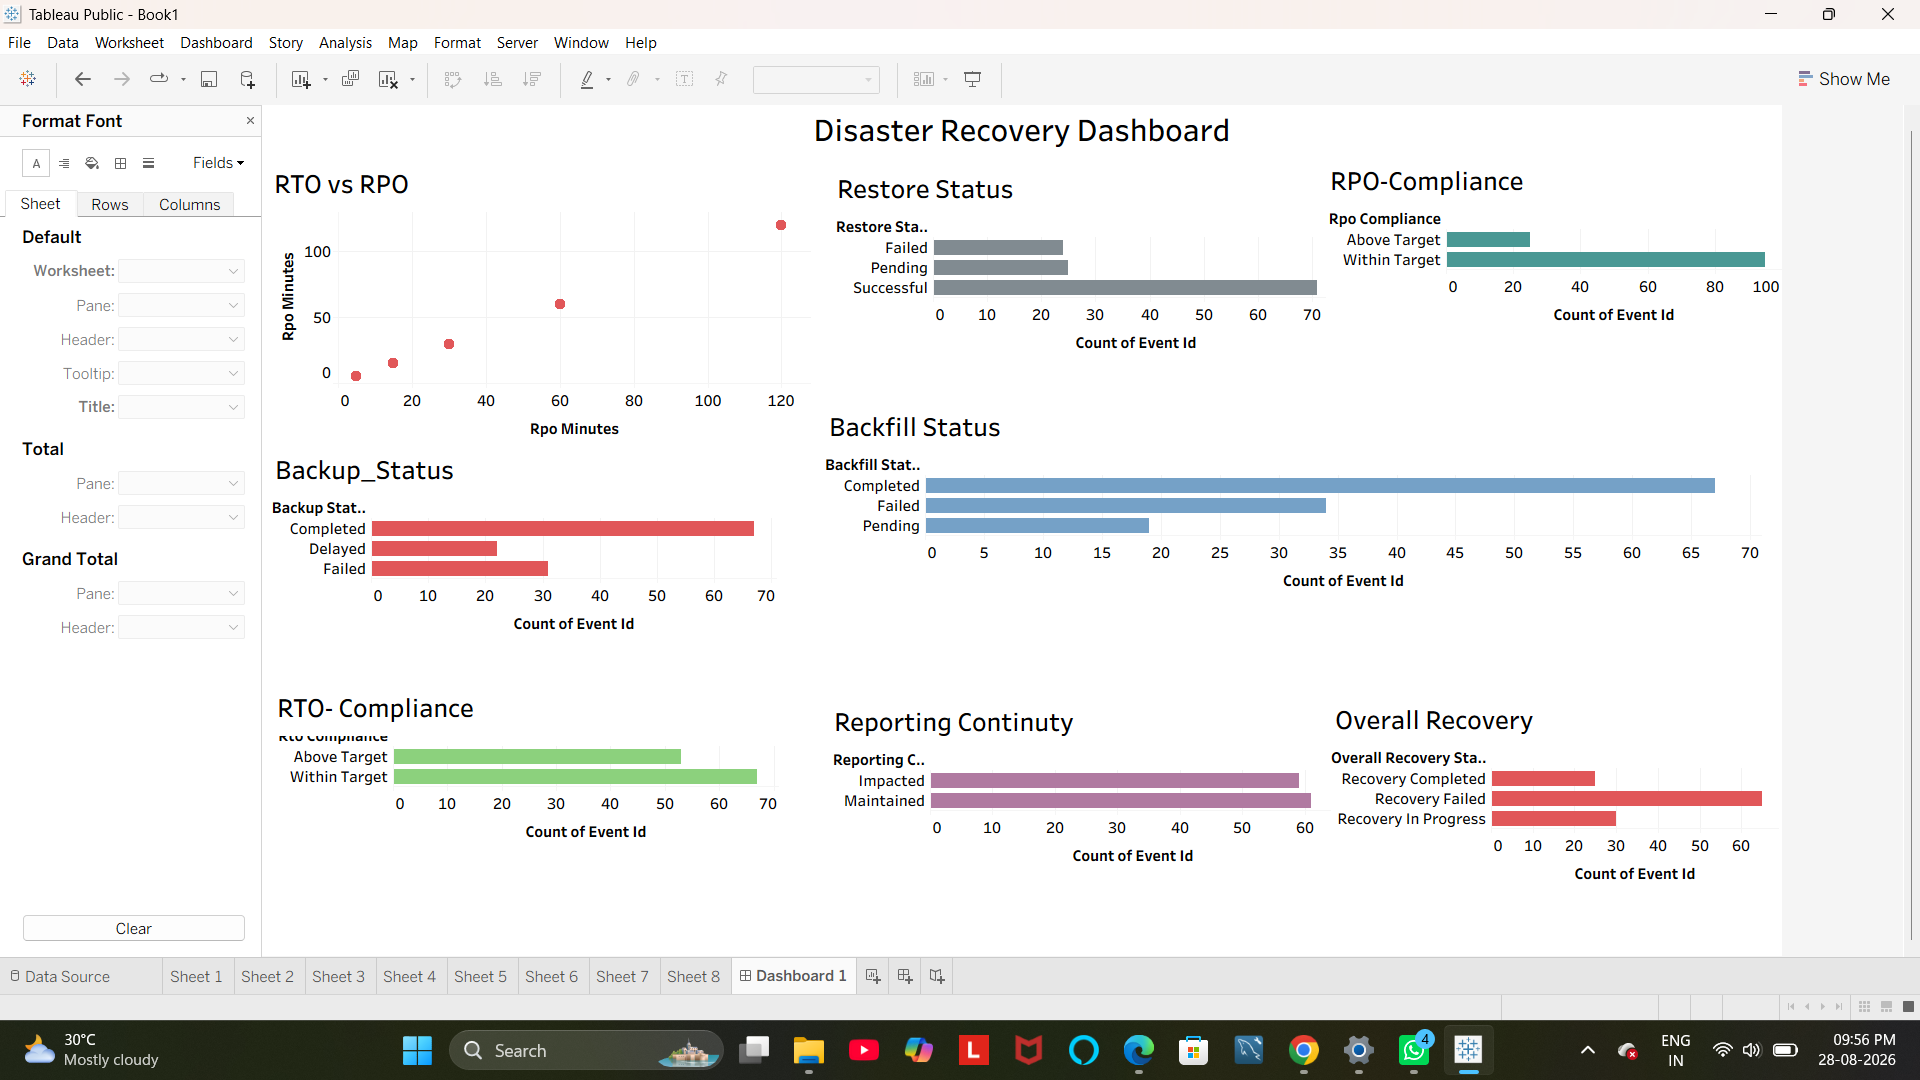

The page's visual inventory and layout, read from the dashboard file:
{"tool":"tableau","page":{"name":"Dashboard 1","canvas":[1520,860],"ordinal":0},"visuals":[{"type":"title","box":[8,8,1504,49]},{"type":"worksheet","title":"Sheet 7","mark":"Automatic","rows":["rpo_compliance"],"cols":["event_id"],"box":[1064,63,456,234]},{"type":"worksheet","title":"Sheet 1","mark":"Circle","rows":["rpo_minutes"],"cols":["rpo_minutes"],"box":[8,66,541,284]},{"type":"worksheet","title":"Sheet 3","mark":"Automatic","rows":["restore_status"],"cols":["event_id"],"box":[571,71,506,225]},{"type":"worksheet","title":"Sheet 4","mark":"Automatic","rows":["backfill_status"],"cols":["event_id"],"box":[563,309,937,288]},{"type":"worksheet","title":"Sheet 2","mark":"Bar","rows":["backup_status"],"cols":["event_id"],"box":[9,352,506,216]},{"type":"worksheet","title":"Sheet 6","mark":"Automatic","rows":["rto_compliance"],"cols":["event_id"],"box":[11,590,506,204]},{"type":"worksheet","title":"Sheet 8","mark":"Automatic","rows":["overall_recovery_status"],"cols":["event_id"],"box":[1069,602,448,201]},{"type":"worksheet","title":"Sheet 5","mark":"Automatic","rows":["reporting_continuity"],"cols":["event_id"],"box":[568,604,506,199]}]}

Visuals, with their boxes on the page's 1520x860 design canvas (x1, y1, x2, y2). These are canvas units, not pixel positions in the 1920x1080 screenshot, which may show the page scaled, cropped or inside an application window:
title: [left=8, top=8, right=1512, bottom=57]
"Sheet 7" worksheet: [left=1064, top=63, right=1520, bottom=297]
"Sheet 1" worksheet (Circle marks): [left=8, top=66, right=549, bottom=350]
"Sheet 3" worksheet: [left=571, top=71, right=1077, bottom=296]
"Sheet 4" worksheet: [left=563, top=309, right=1500, bottom=597]
"Sheet 2" worksheet (Bar marks): [left=9, top=352, right=515, bottom=568]
"Sheet 6" worksheet: [left=11, top=590, right=517, bottom=794]
"Sheet 8" worksheet: [left=1069, top=602, right=1517, bottom=803]
"Sheet 5" worksheet: [left=568, top=604, right=1074, bottom=803]
